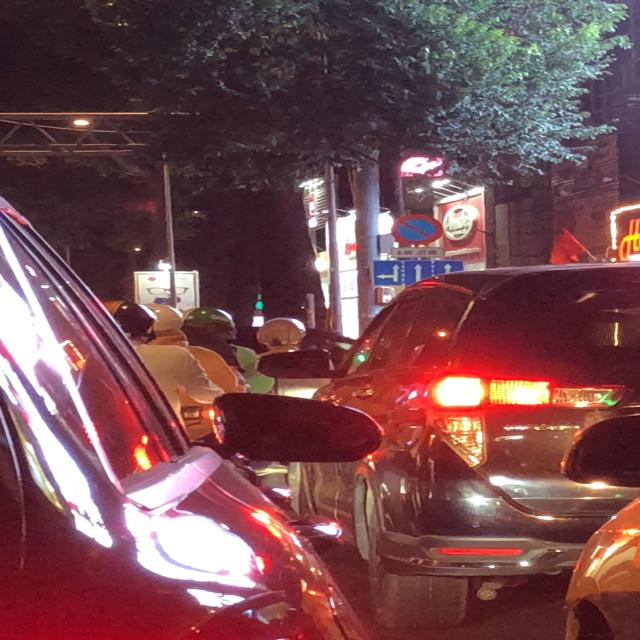Bien bao cam do xe: (386, 214, 448, 247)
